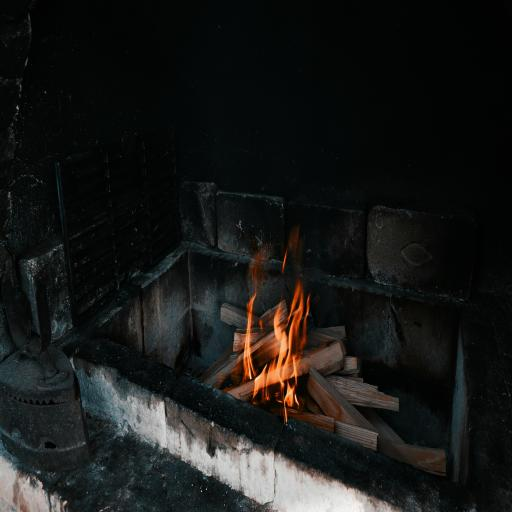campfire: (199, 205, 347, 458)
